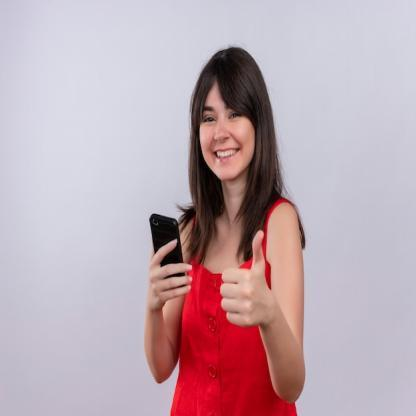thumb_up: (219, 229, 276, 332)
